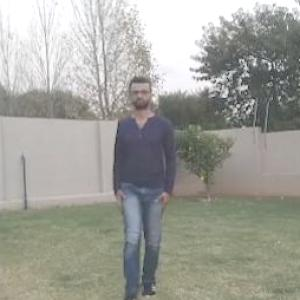follow: (117, 94, 166, 293)
